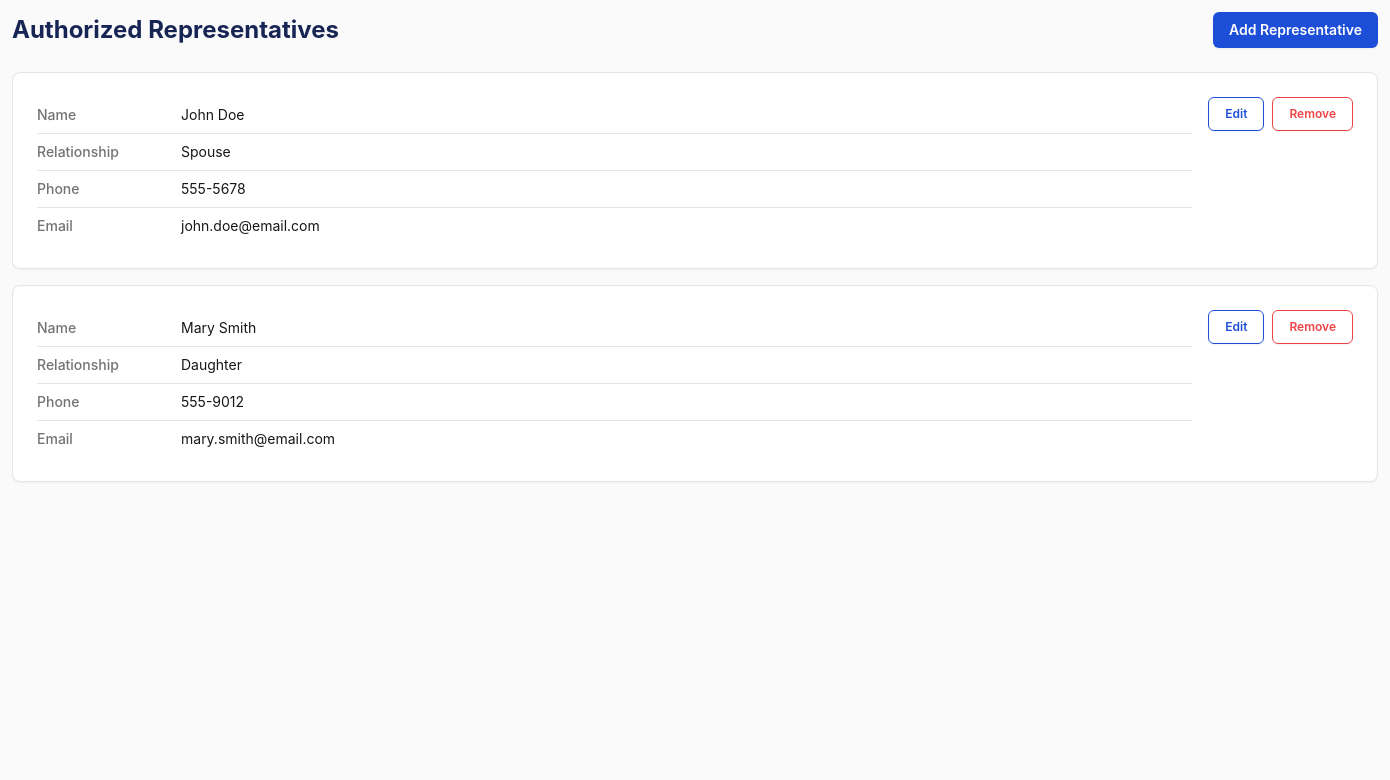
Scenario: RepresentativesPage › adds a new representative and shows success toast
The image size is (1390, 780).
Click the button "Add Representative" at (1296,30), box [1213,12,1378,48]
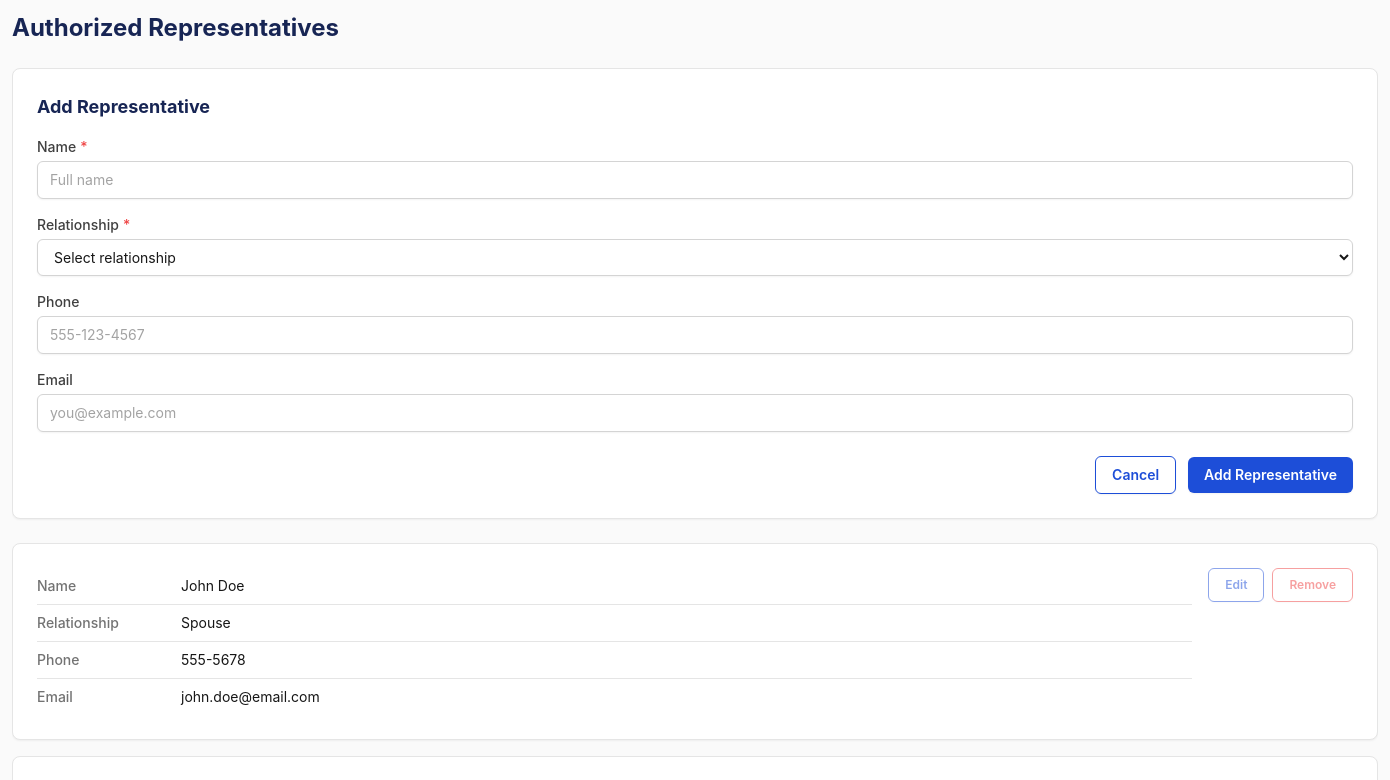
Type "New Representative" into the field labelled "Name*" at (695,180), box [37,161,1353,199]
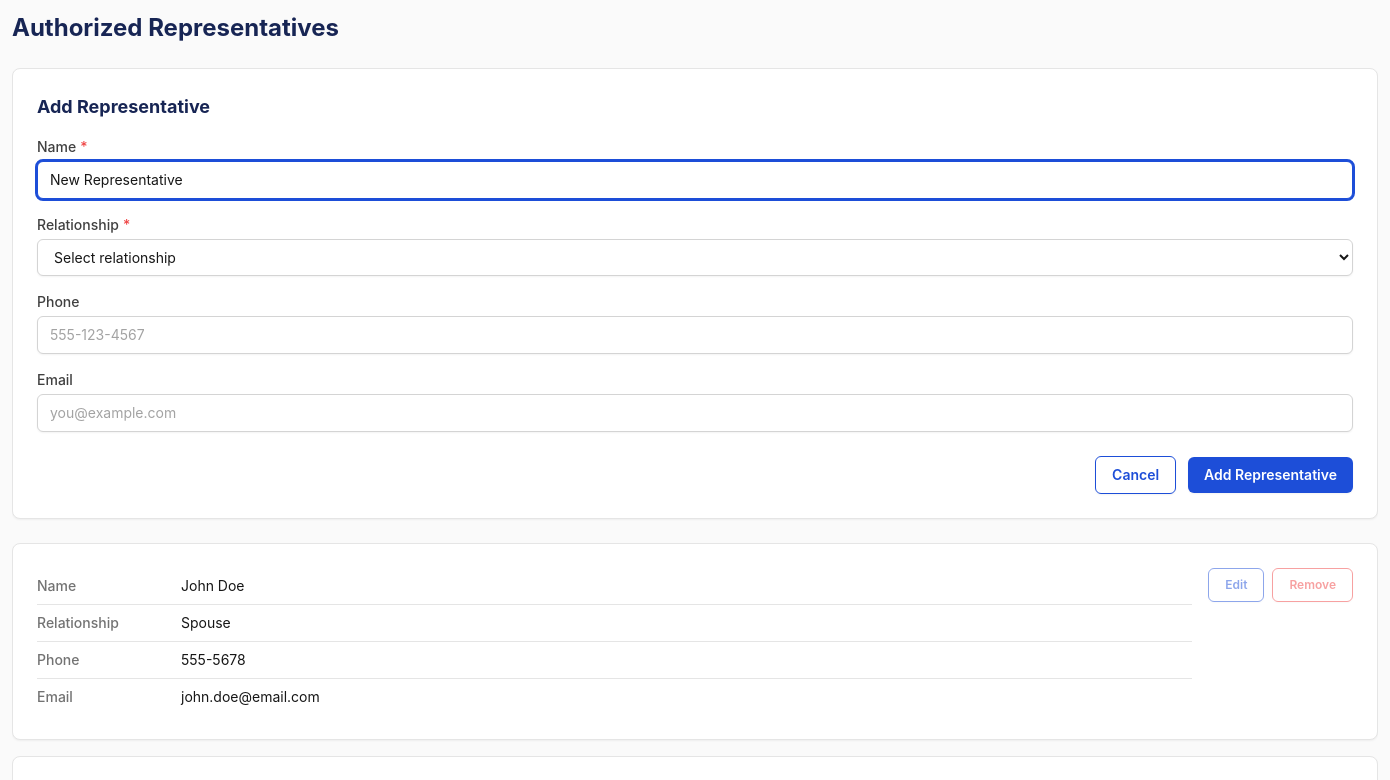
Select "Child" in the dropdown labelled "Relationship*" at (695,258), box [37,239,1353,276]
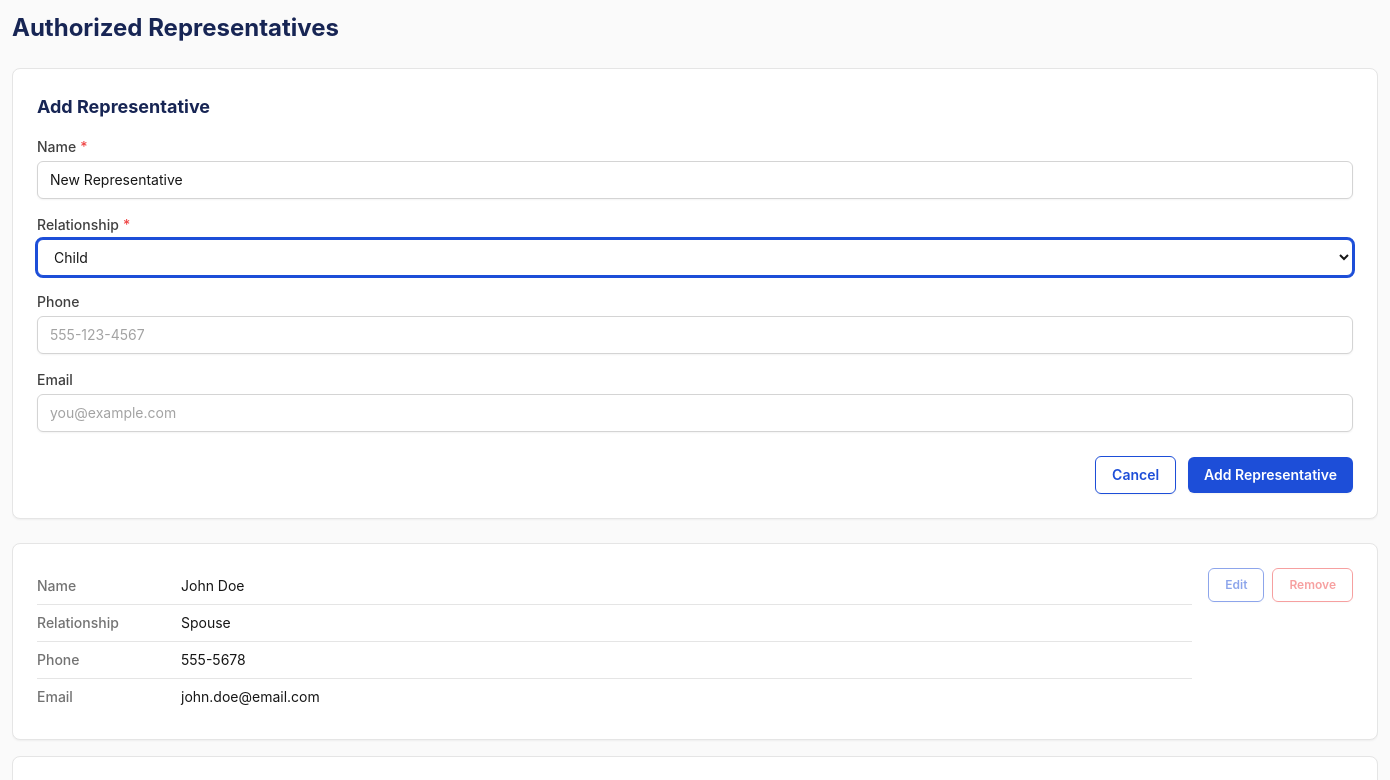
Type "555-111-2222" into the field labelled "Phone" at (695,335), box [37,316,1353,354]
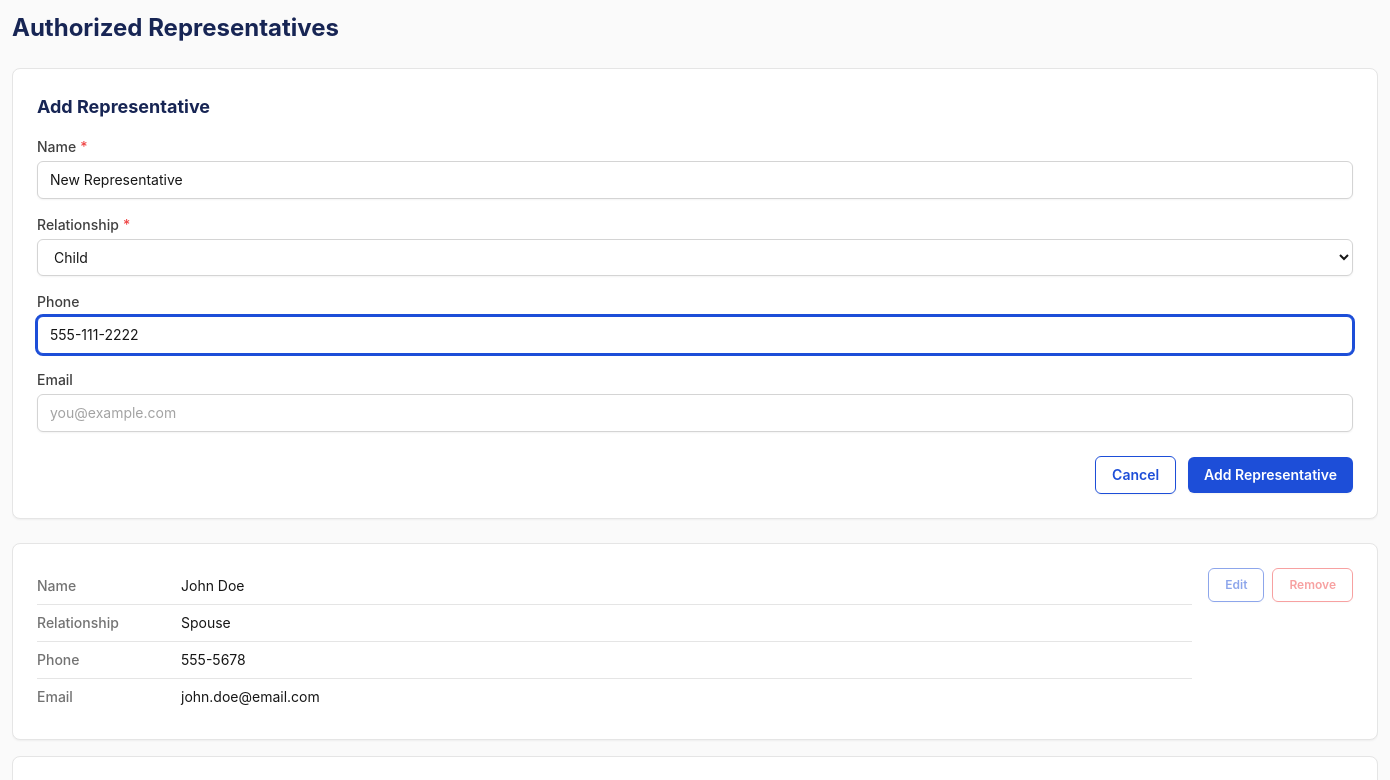
Type "newrep@test.com" into the field labelled "Email" at (695,413), box [37,394,1353,432]
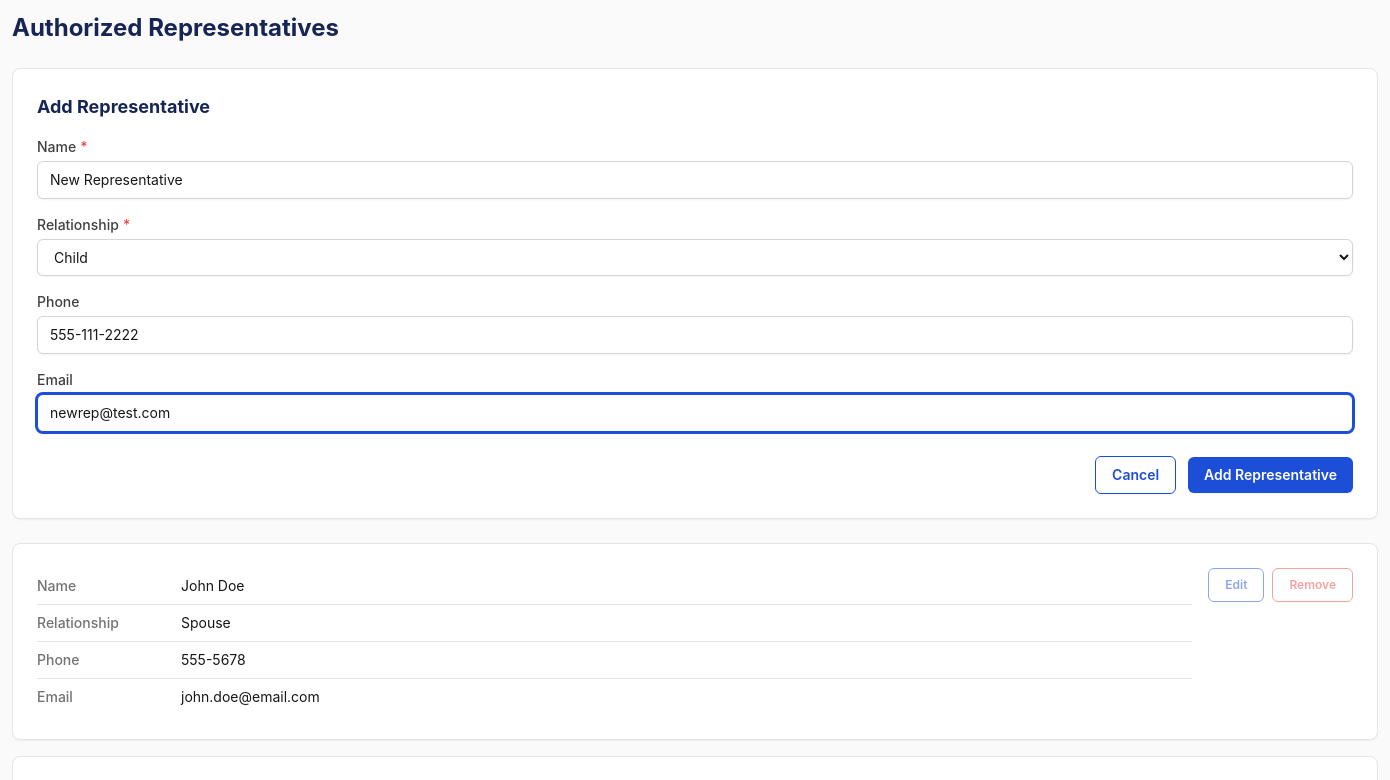
Click the button "Add Representative" at (1271,475), box [1188,457,1353,493]
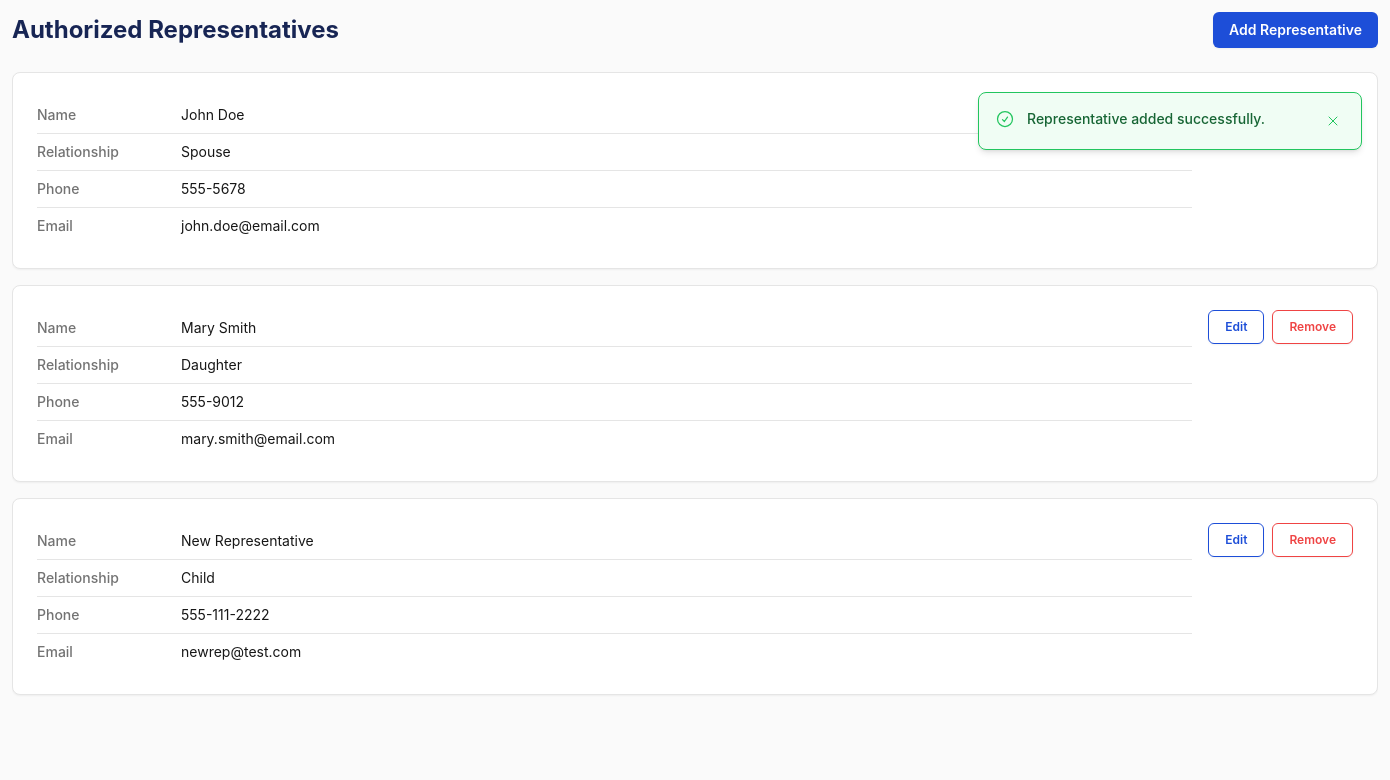
Check: the text "Representative added successfully." is shown, box [1027,110,1265,127]
Check: the text "New Representative" is shown, box [181,531,314,551]
Check: the text "Child" is shown, box [181,568,215,588]
